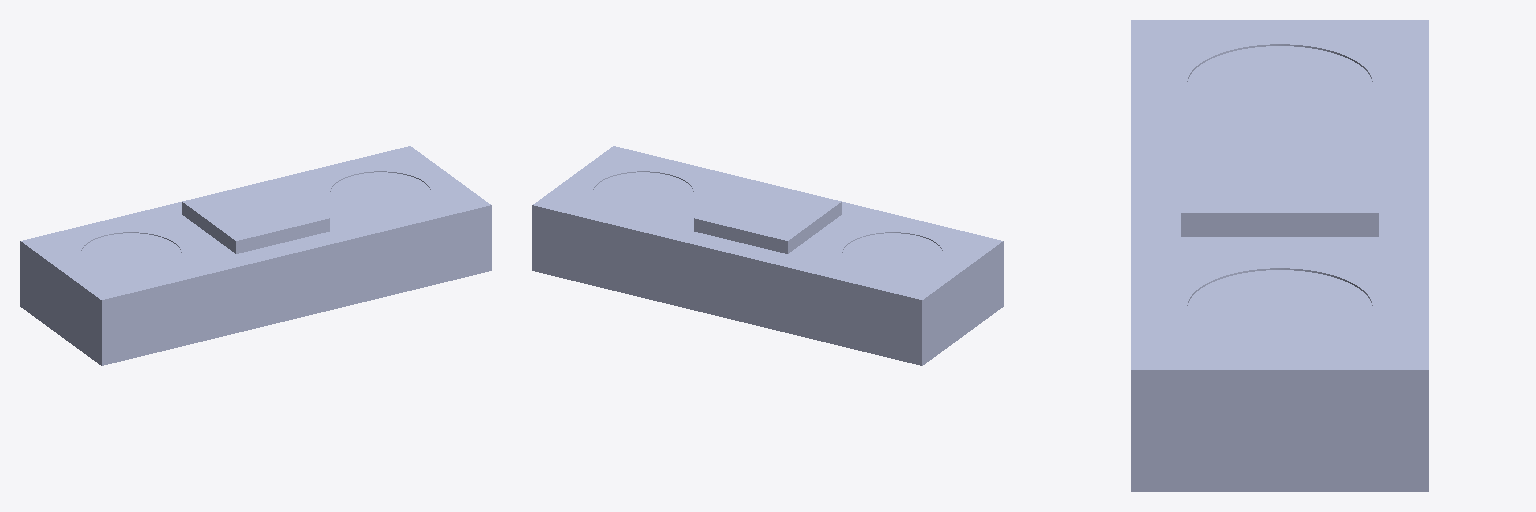
The robot description file, URDF, robot "chess_workcell":
<?xml version='1.0' encoding='utf-8'?>
<robot name="chess_workcell">
  <link name="workcell_controle_box">
    <visual>
      <origin xyz="0 0 0" rpy="0 0 0" />
      <geometry>
        <mesh filename="package://chess_workcell_description/meshes/controle_box_refined.STL" />
      </geometry>
      <material name="">
        <color rgba="0.792156862745098 0.819607843137255 0.933333333333333 1" />
      </material>
    </visual>
    <collision>
      <origin xyz="0 0 0" rpy="0 0 0" />
      <geometry>
        <mesh filename="package://chess_workcell_description/meshes/controle_box_refined.STL" />
      </geometry>
    </collision>
  </link>
  <link name="workcell_chess_board">
    <visual>
      <origin xyz="0 0 0" rpy="0 0 0" />
      <geometry>
        <mesh filename="package://chess_workcell_description/meshes/chess_board.STL" />
      </geometry>
      <material name="">
        <color rgba="0.792156862745098 0.819607843137255 0.933333333333333 1" />
      </material>
    </visual>
    <collision>
      <origin xyz="0 0 0" rpy="0 0 0" />
      <geometry>
        <mesh filename="package://chess_workcell_description/meshes/chess_board.STL" />
      </geometry>
    </collision>
  </link>
  <joint name="workcell_chess_board_joint" type="fixed">
    <origin xyz="0.522123332705935 -1.12365698223419 0.689524212328646" rpy="3.14159265358979 0 0" />
    <parent link="workcell_controle_box" />
    <child link="workcell_chess_board" />
    <axis xyz="0 0 0" />
  </joint>
  <link name="world" />
  <joint name="world_to_workcell" type="fixed">
    <parent link="world" />
    <child link="workcell_controle_box" />
    <origin xyz="-0.522123332705935 -0.689524212328646 -1.11365698223419" rpy="-1.5707963267948966 0 0" />
  </joint>
</robot>

--- What the picture shows (computed from the rendered views, not written in the file) ---
3 views of the same robot in one strip: view 1: azimuth 30°, elevation 25°; view 2: azimuth 150°, elevation 25°; view 3: azimuth 270°, elevation 25° (orthographic).
Robot: chess_workcell — 3 links, 2 joints (2 fixed); root link world; default pose: every joint at zero.
Links seen in each view (by area): view 1: workcell_controle_box, workcell_chess_board; view 2: workcell_controle_box, workcell_chess_board; view 3: workcell_controle_box, workcell_chess_board.
Link boxes in pixels (x1,y1,x2,y2): workcell_controle_box: (20, 146, 491, 365); workcell_chess_board: (187, 181, 323, 238); workcell_controle_box: (532, 146, 1003, 365); workcell_chess_board: (700, 181, 836, 238); workcell_controle_box: (1131, 20, 1428, 491); workcell_chess_board: (1187, 132, 1372, 210).
Bounding box of the posed robot: 1.25 × 0.45 × 0.2416 m (x, y, z).
2 mesh visuals loaded from 2 distinct referenced files (2 binary STL).
